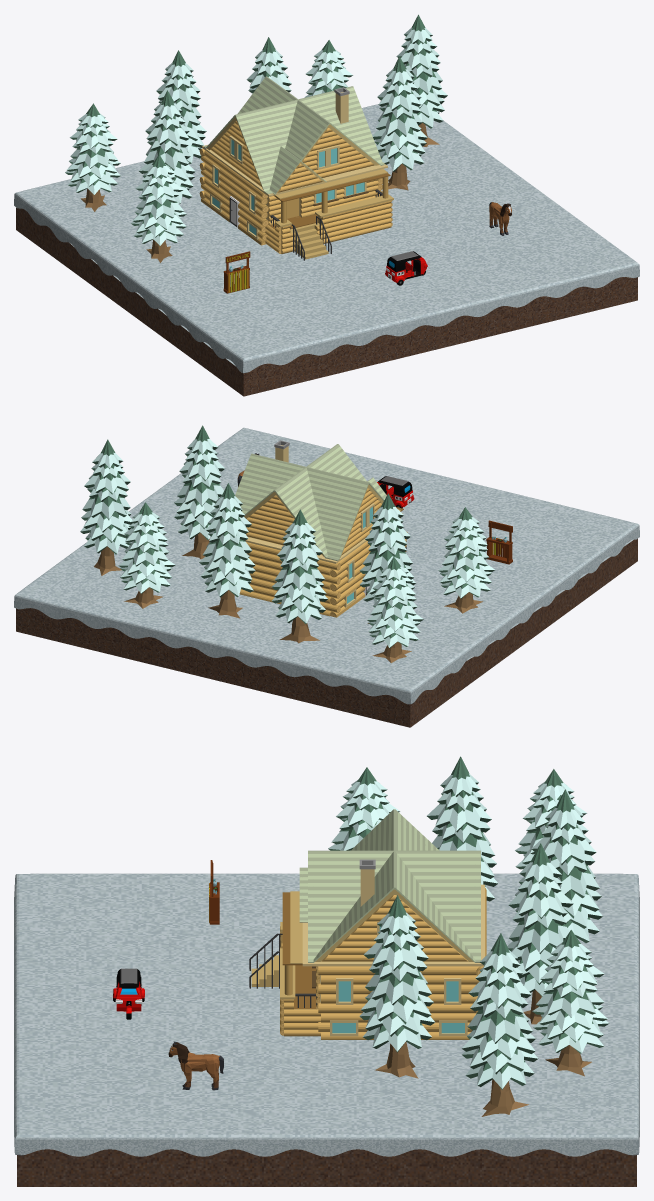
The picture shows the model from 3 angles, top to bottom: view 1: azimuth 30°, elevation 25°; view 2: azimuth 150°, elevation 25°; view 3: azimuth 270°, elevation 25°; orthographic projection. The views are drawn at different scales.
Parts seen in each view (by area): view 1: Cube.003, Cube.1516, VEHICLES_TUC_TUC, OBJRANDOM_LEMONADE_STAND, ANIMAL_CABALLO; view 2: Cube.003, Cube.1516, OBJRANDOM_LEMONADE_STAND, VEHICLES_TUC_TUC; view 3: Cube.003, Cube.1516, ANIMAL_CABALLO, VEHICLES_TUC_TUC.
Part boxes in pixels (<box>): Cube.003: <box>14,14,639,396</box>; Cube.1516: <box>199,76,393,260</box>; VEHICLES_TUC_TUC: <box>385,251,427,285</box>; OBJRANDOM_LEMONADE_STAND: <box>223,251,250,293</box>; ANIMAL_CABALLO: <box>489,202,511,235</box>; Cube.003: <box>14,425,639,727</box>; Cube.1516: <box>235,440,407,617</box>; OBJRANDOM_LEMONADE_STAND: <box>486,520,512,564</box>; VEHICLES_TUC_TUC: <box>377,476,414,508</box>; Cube.003: <box>14,756,639,1186</box>; Cube.1516: <box>249,809,486,1039</box>; ANIMAL_CABALLO: <box>168,1041,223,1090</box>; VEHICLES_TUC_TUC: <box>113,968,144,1019</box>.
Size of the model in its own units: 4040 by 1700 by 4040.
41 materials, 4 textured.
